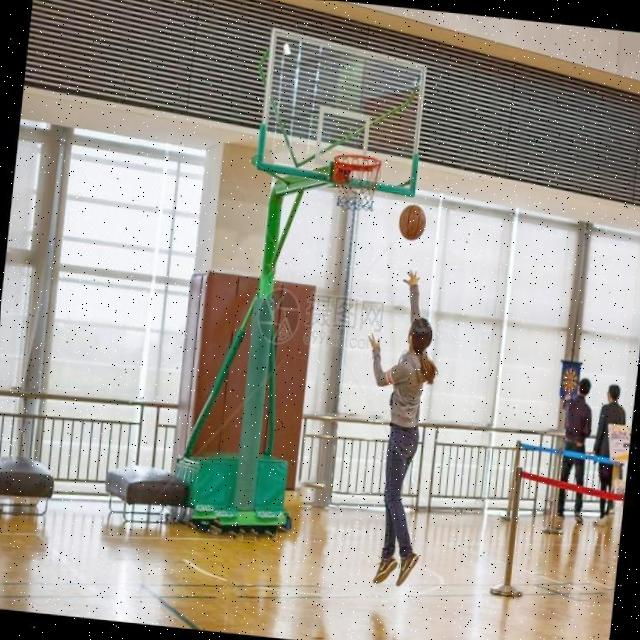ball: (396, 202, 427, 242)
hoop: (323, 150, 391, 170)
